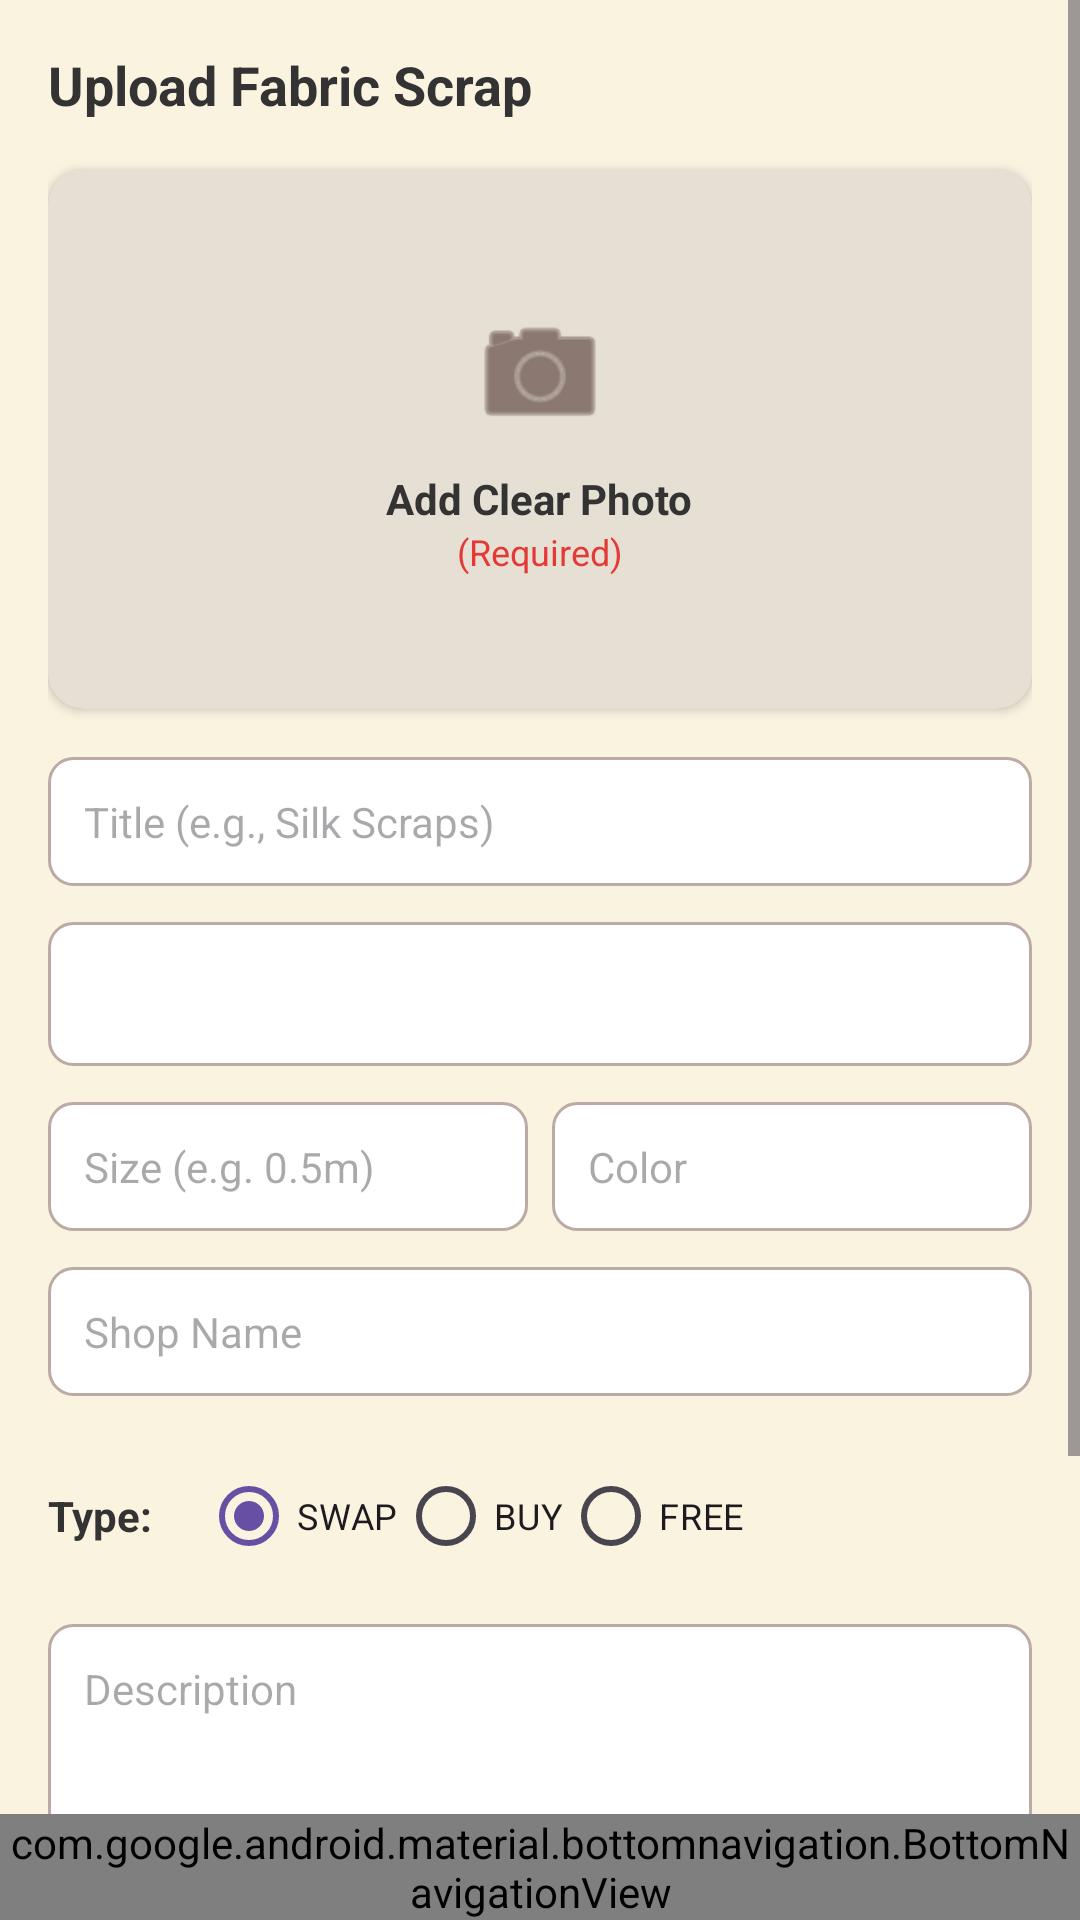

Icon click points for this 1080w x 1920h phone screenshot, format (x=x, y=y):
camera: (x=539, y=372)
